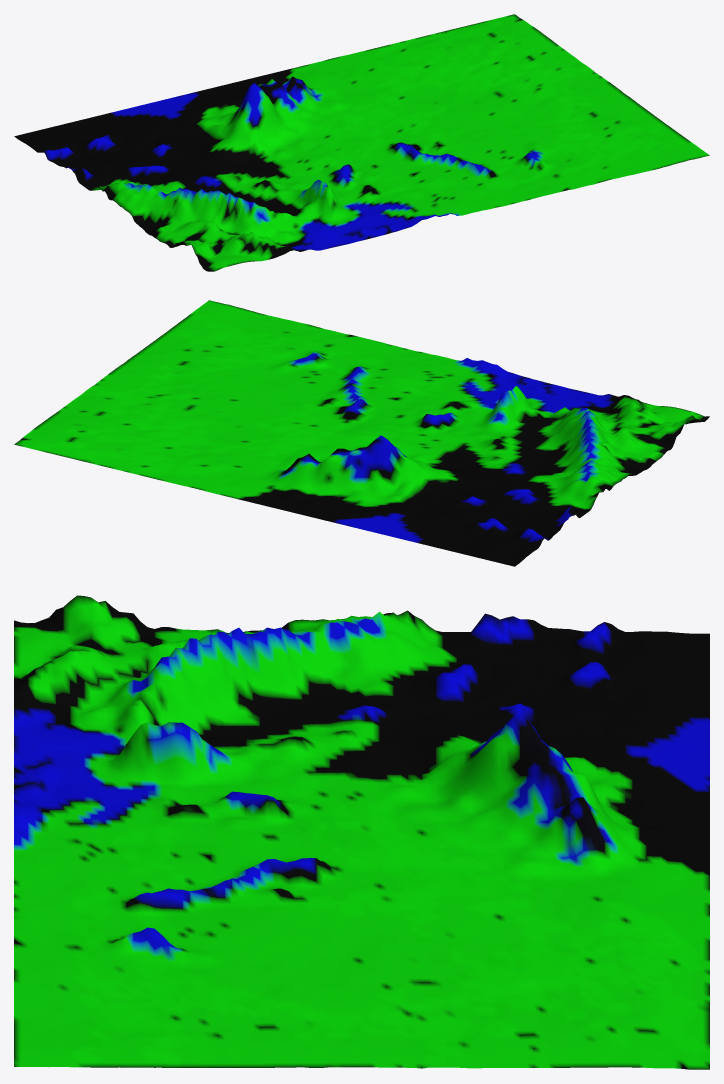
The model's file is Terrain_MainMap_Block_A_01.fbx.
The picture shows the model from 3 angles, top to bottom: view 1: azimuth 30°, elevation 25°; view 2: azimuth 150°, elevation 25°; view 3: azimuth 270°, elevation 25°; orthographic projection. The views are drawn at different scales.
Parts seen in each view (by area): view 1: Terrain_MainMap_Block_A_01; view 2: Terrain_MainMap_Block_A_01; view 3: Terrain_MainMap_Block_A_01.
Part boxes in pixels (x1,y1,x2,y2): Terrain_MainMap_Block_A_01: (14, 14, 709, 271); Terrain_MainMap_Block_A_01: (14, 300, 709, 566); Terrain_MainMap_Block_A_01: (14, 595, 709, 1069).
Size of the model in its own units: 40000 by 3567 by 27000.
